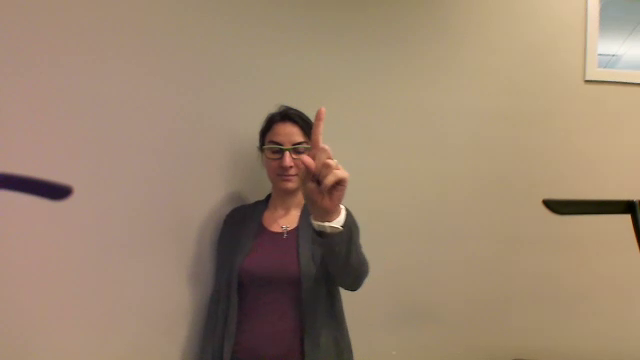up: (291, 104, 354, 217)
